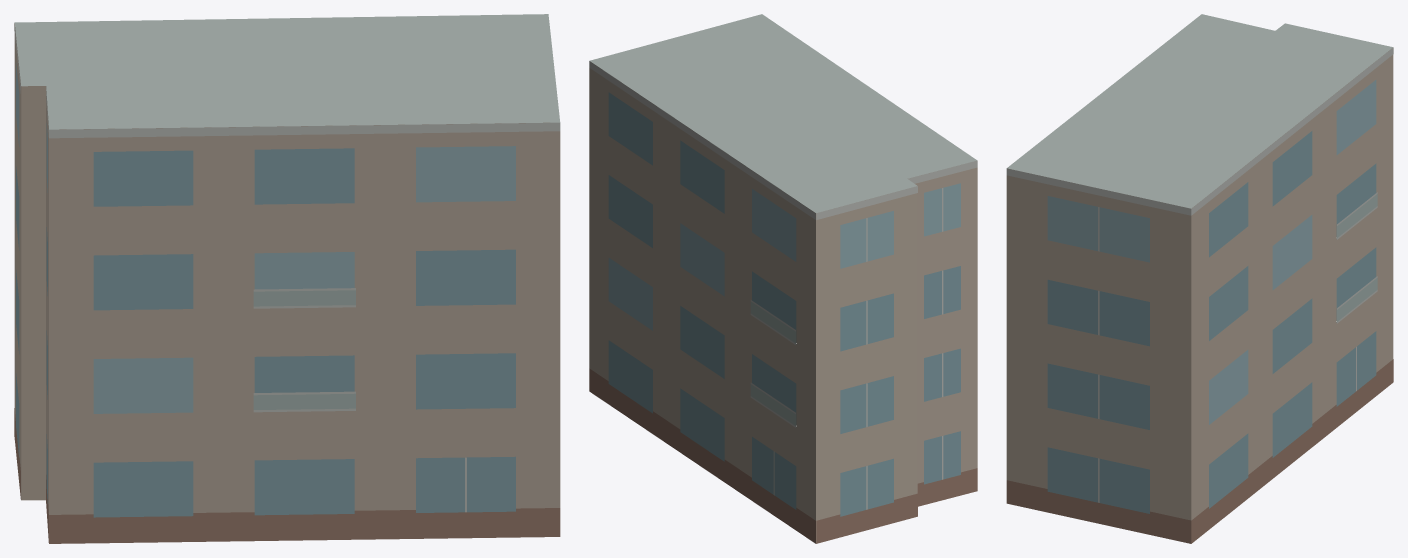
The model's file is survey-upis-32810795.glb.
3 views of the same model, side by side, from view 1: azimuth 30°, elevation 25°; view 2: azimuth 150°, elevation 25°; view 3: azimuth 270°, elevation 25° (orthographic). The views are drawn at different scales.
Parts seen in each view (by area): view 1: survey-upis-32810795.tmp; view 2: survey-upis-32810795.tmp; view 3: survey-upis-32810795.tmp.
Boxes of the visible parts, x1,y1,x2,y2 form: survey-upis-32810795.tmp: (14,14,560,543); survey-upis-32810795.tmp: (589,14,977,543); survey-upis-32810795.tmp: (1006,14,1393,543).
Bounding box in the file's own units: 14.46 × 11.6 × 12.14.
